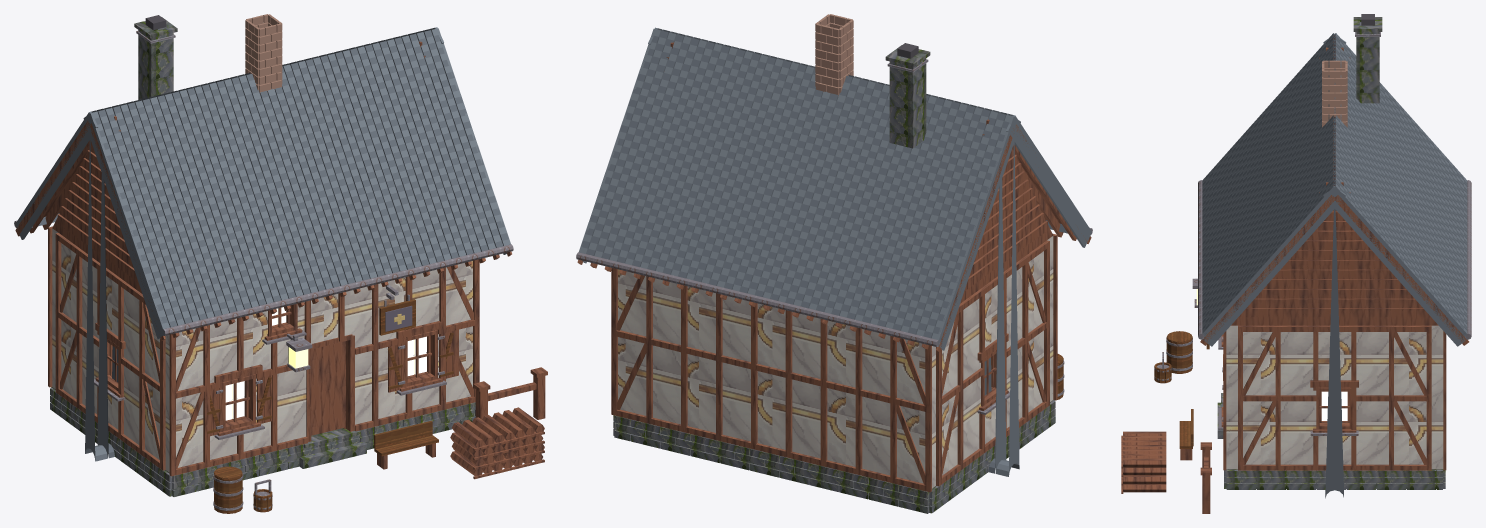
The model's file is avsluta.glb.
3 renders of one model, left to right at view 1: azimuth 30°, elevation 25°; view 2: azimuth 150°, elevation 25°; view 3: azimuth 270°, elevation 25°, orthographic. The views are drawn at different scales.
Visible parts, largest first — view 1: avsluta_takpanna_ljus, avsluta_takpanna_mörk, avsluta_mörkt_virke, avsluta_puts, avsluta_fot_sten, avsluta_järn, avsluta_ljust_virke, avsluta_tegel, avsluta_mur, avsluta_sten, avsluta_fönster; view 2: avsluta_takpanna_ljus, avsluta_takpanna_mörk, avsluta_puts, avsluta_mörkt_virke, avsluta_fot_sten, avsluta_järn, avsluta_mur, avsluta_tegel; view 3: avsluta_takpanna_ljus, avsluta_mörkt_virke, avsluta_takpanna_mörk, avsluta_puts, avsluta_fot_sten, avsluta_järn, avsluta_ljust_virke, avsluta_mur, avsluta_tegel, avsluta_sten.
Boxes of the visible parts, x1,y1,x2,y2 form: avsluta_takpanna_ljus: (15, 27, 510, 461); avsluta_takpanna_mörk: (18, 29, 508, 458); avsluta_mörkt_virke: (15, 41, 547, 479); avsluta_puts: (52, 228, 472, 472); avsluta_fot_sten: (50, 387, 475, 496); avsluta_järn: (14, 31, 513, 510); avsluta_ljust_virke: (207, 299, 453, 513); avsluta_tegel: (245, 14, 282, 94); avsluta_mur: (138, 30, 173, 99); avsluta_sten: (134, 17, 366, 468); avsluta_fönster: (225, 307, 426, 420); avsluta_takpanna_ljus: (579, 27, 1091, 476); avsluta_takpanna_mörk: (581, 29, 1074, 473); avsluta_puts: (618, 236, 1053, 488); avsluta_mörkt_virke: (577, 42, 1091, 492); avsluta_fot_sten: (613, 400, 1055, 513); avsluta_järn: (576, 59, 1092, 414); avsluta_mur: (889, 58, 926, 148); avsluta_tegel: (815, 14, 853, 96); avsluta_takpanna_ljus: (1201, 33, 1468, 491); avsluta_mörkt_virke: (1121, 38, 1469, 513); avsluta_takpanna_mörk: (1202, 36, 1467, 498); avsluta_puts: (1226, 325, 1443, 469); avsluta_fot_sten: (1224, 470, 1445, 489); avsluta_järn: (1154, 32, 1471, 435); avsluta_ljust_virke: (1154, 331, 1209, 448); avsluta_mur: (1356, 32, 1379, 103); avsluta_tegel: (1322, 60, 1347, 127); avsluta_sten: (1217, 17, 1382, 438).
Size of the model in its own units: 12.02 by 12.1 by 10.5.
14 materials, 7 textured.
